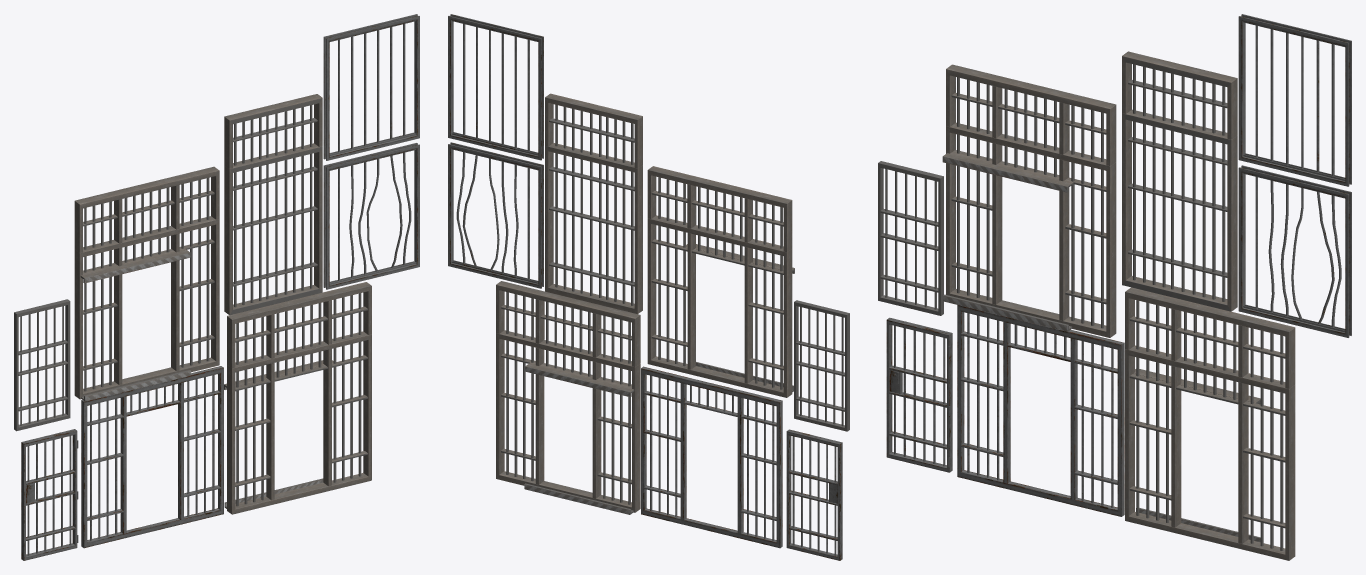
Rendered from PrisonGateBars.fbx.
The picture shows the model from 3 angles, left to right: view 1: azimuth 30°, elevation 25°; view 2: azimuth 150°, elevation 25°; view 3: azimuth 330°, elevation 25°; orthographic projection. The views are drawn at different scales.
Visible parts, largest first — view 1: SM_PrisonGate_Slide.mo, SM_PrisonGate_Slide_B.mo, SM_PrisonGate_Bars.mo, SM_PrisonDoor_Bars_Frame.mo, SM_BarsGate_Level5_A.mo, SM_BarsGate_Level5_B.mo, SM_PrisonDoor_Bars.mo, SM_PrisonGate_Door.mo; view 2: SM_PrisonGate_Slide_B.mo, SM_PrisonGate_Slide.mo, SM_PrisonGate_Bars.mo, SM_PrisonDoor_Bars_Frame.mo, SM_BarsGate_Level5_B.mo, SM_BarsGate_Level5_A.mo, SM_PrisonDoor_Bars.mo, SM_PrisonGate_Door.mo; view 3: SM_PrisonGate_Slide.mo, SM_PrisonGate_Slide_B.mo, SM_PrisonGate_Bars.mo, SM_PrisonDoor_Bars_Frame.mo, SM_BarsGate_Level5_A.mo, SM_BarsGate_Level5_B.mo, SM_PrisonDoor_Bars.mo, SM_PrisonGate_Door.mo.
Part boxes in pixels (left/top/right/bottom): SM_PrisonGate_Slide.mo: left=74, top=166, right=219, bottom=401; SM_PrisonGate_Slide_B.mo: left=224, top=282, right=371, bottom=514; SM_PrisonGate_Bars.mo: left=224, top=94, right=322, bottom=315; SM_PrisonDoor_Bars_Frame.mo: left=81, top=366, right=223, bottom=548; SM_BarsGate_Level5_A.mo: left=323, top=14, right=419, bottom=160; SM_BarsGate_Level5_B.mo: left=323, top=143, right=419, bottom=289; SM_PrisonDoor_Bars.mo: left=21, top=429, right=78, bottom=560; SM_PrisonGate_Door.mo: left=14, top=299, right=70, bottom=431; SM_PrisonGate_Slide_B.mo: left=496, top=281, right=640, bottom=514; SM_PrisonGate_Slide.mo: left=647, top=166, right=794, bottom=397; SM_PrisonGate_Bars.mo: left=545, top=93, right=642, bottom=314; SM_PrisonDoor_Bars_Frame.mo: left=641, top=366, right=782, bottom=548; SM_BarsGate_Level5_B.mo: left=448, top=142, right=543, bottom=288; SM_BarsGate_Level5_A.mo: left=448, top=14, right=543, bottom=160; SM_PrisonDoor_Bars.mo: left=786, top=429, right=842, bottom=560; SM_PrisonGate_Door.mo: left=794, top=300, right=849, bottom=431; SM_PrisonGate_Slide.mo: left=942, top=64, right=1116, bottom=337; SM_PrisonGate_Slide_B.mo: left=1125, top=287, right=1295, bottom=560; SM_PrisonGate_Bars.mo: left=1122, top=51, right=1237, bottom=311; SM_PrisonDoor_Bars_Frame.mo: left=957, top=305, right=1124, bottom=516; SM_BarsGate_Level5_A.mo: left=1238, top=14, right=1351, bottom=186; SM_BarsGate_Level5_B.mo: left=1238, top=165, right=1351, bottom=337; SM_PrisonDoor_Bars.mo: left=886, top=317, right=952, bottom=472; SM_PrisonGate_Door.mo: left=878, top=161, right=943, bottom=315.
Size of the model in its own units: 862 by 925 by 47.93.
